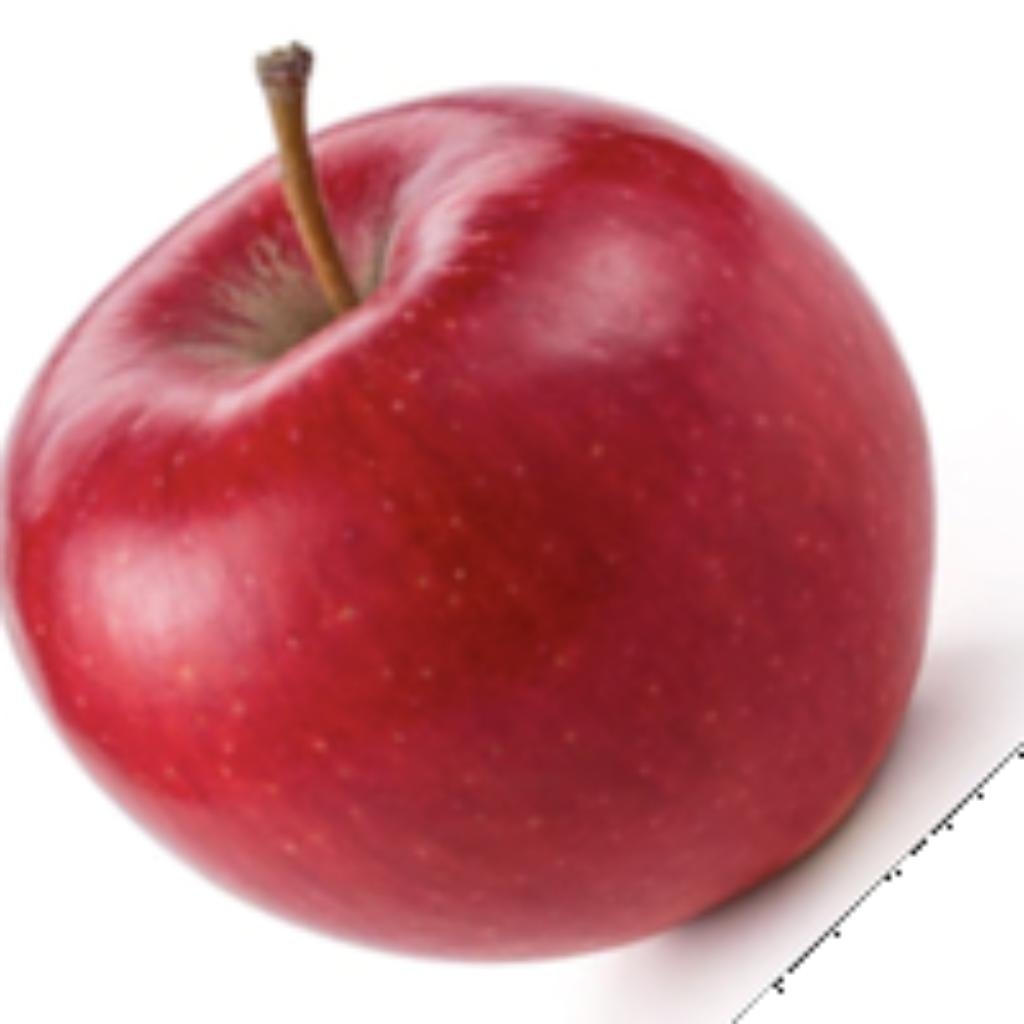apple: (0, 31, 1019, 1019)
